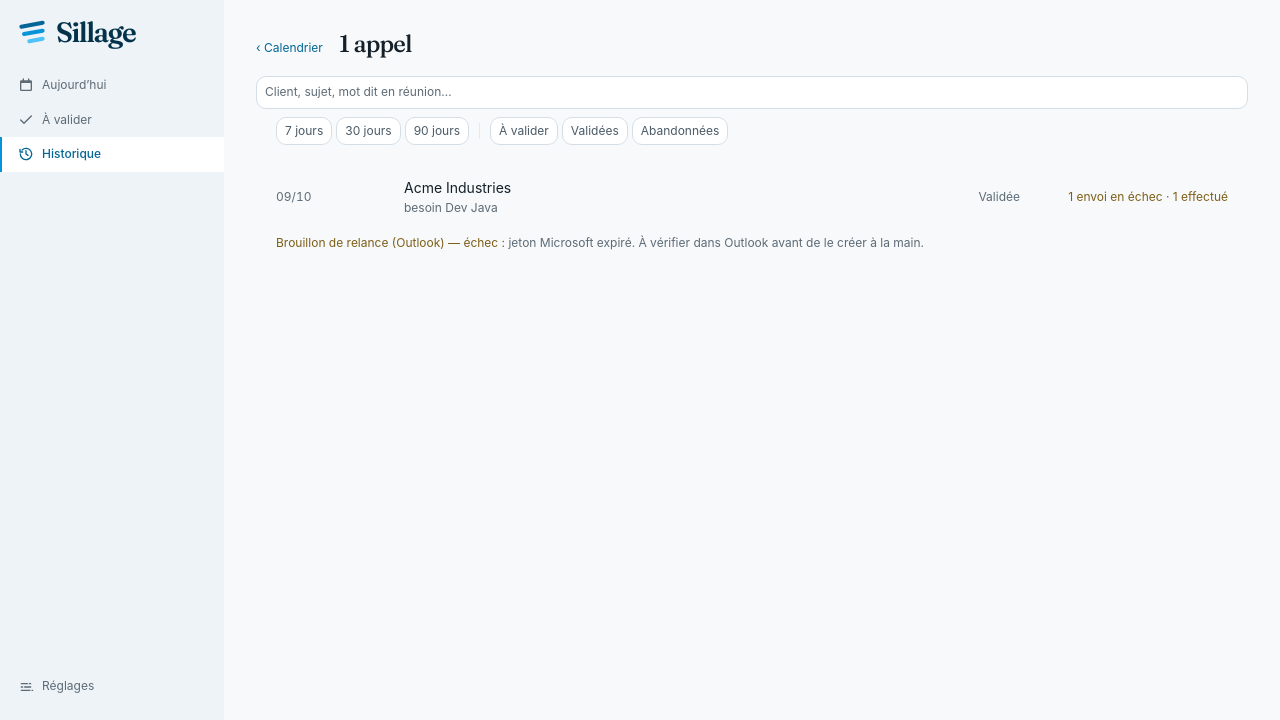
a caption only where the content cannot name itself (US-23) › un marquage antérieur à l’enregistrement n’est pas daté à zéro
Expected: the list named "Appels enregistrés" is shown, [256, 162, 1248, 260]
Click the button "Acme Industries": {"x": 294, "y": 197} [256, 162, 1248, 234]
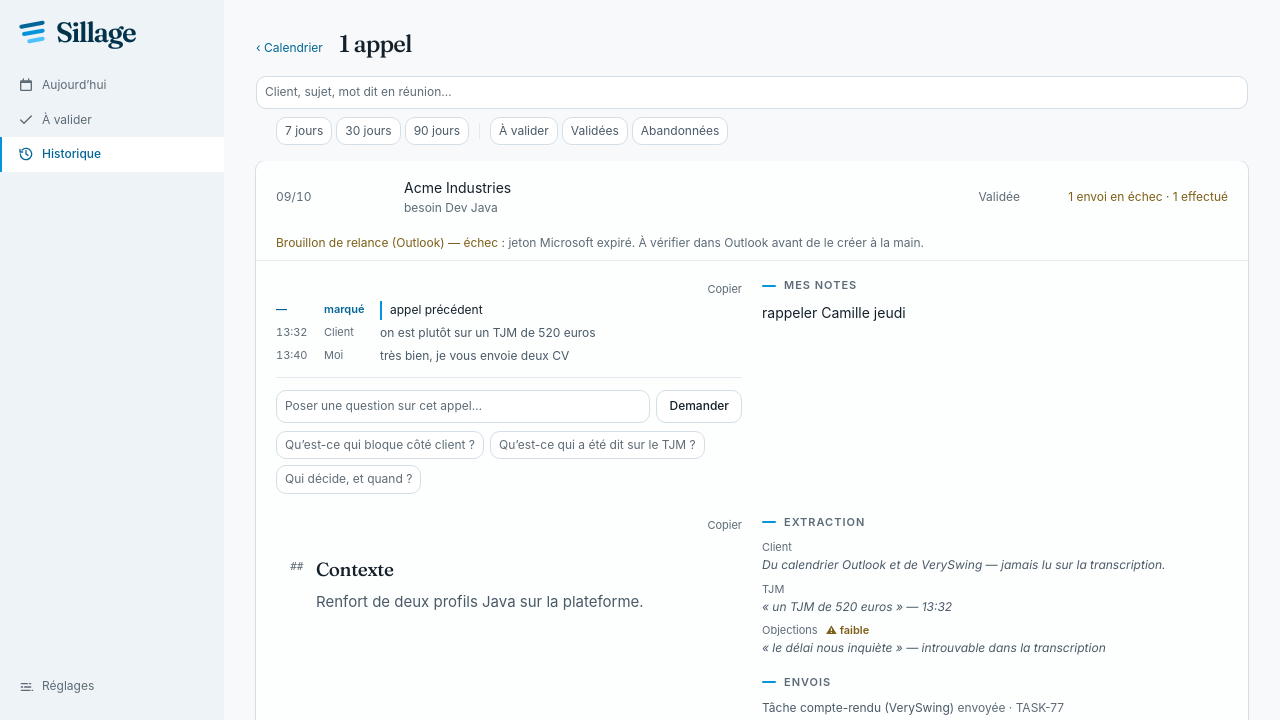
Now the text "appel précédent" is shown, box [380, 301, 738, 320]
Now the text "—" is shown, box [276, 302, 287, 316]
